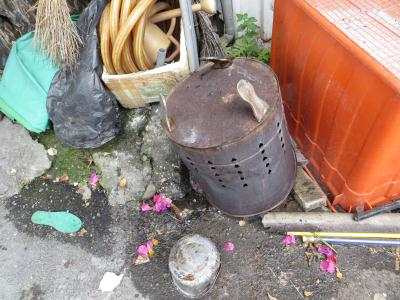bowl: (162, 230, 225, 298)
box: (267, 1, 400, 213)
bucket: (158, 55, 302, 221)
plastic_bag: (45, 3, 120, 147), (1, 33, 54, 130)
